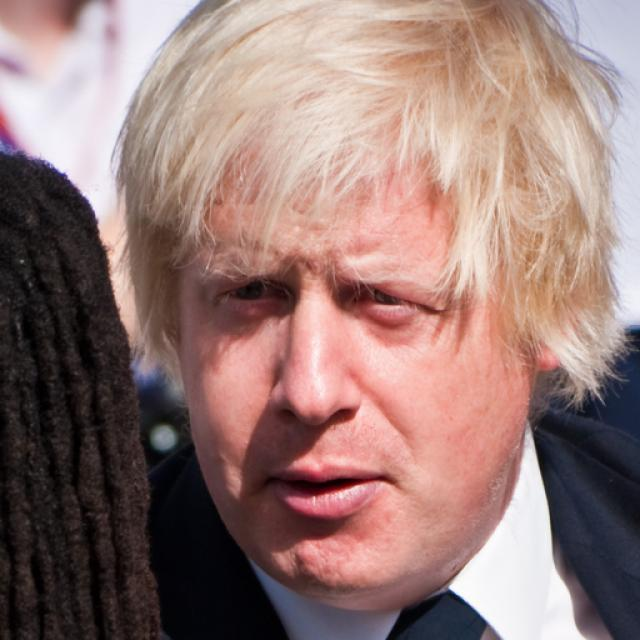anger: (178, 91, 538, 590)
